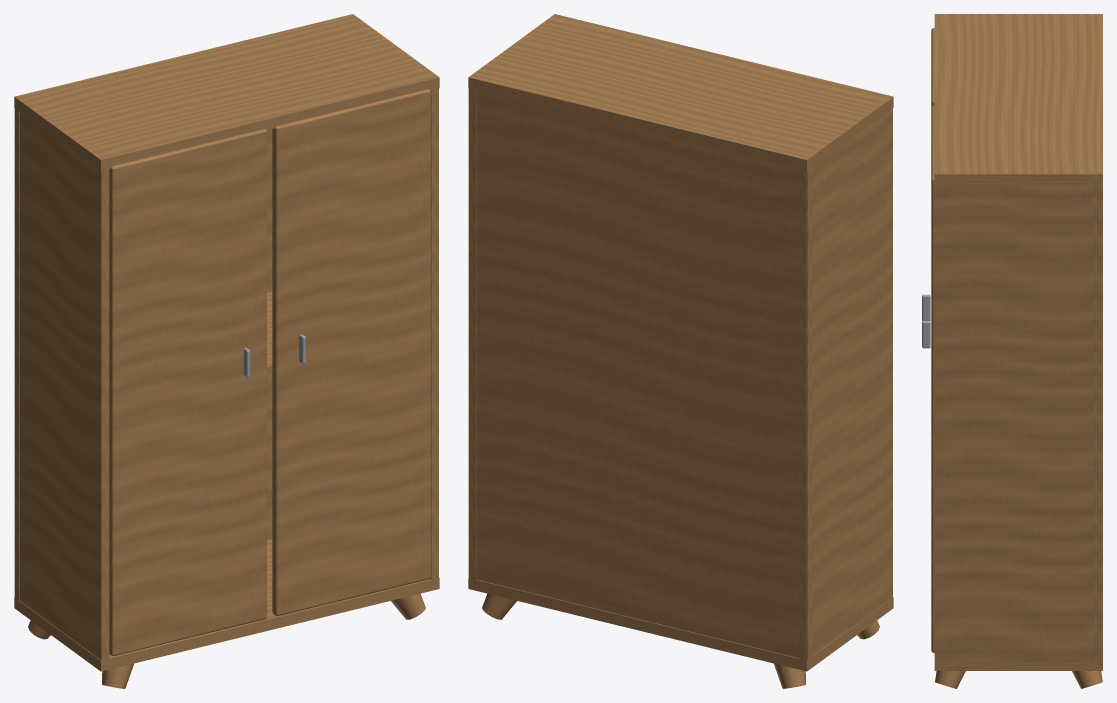
Rendered from wardrobe_fjord-4127150bf0e5.glb.
3 renders of one model, left to right at view 1: azimuth 30°, elevation 25°; view 2: azimuth 150°, elevation 25°; view 3: azimuth 270°, elevation 25°, orthographic. The views are drawn at different scales.
Parts seen in each view (by area): view 1: surface_oak; view 2: surface_oak; view 3: surface_oak, surface_steel.
Part boxes in pixels (left/top/right/bottom): surface_oak: left=14, top=14, right=439, bottom=688; surface_oak: left=468, top=14, right=893, bottom=688; surface_oak: left=931, top=14, right=1102, bottom=688; surface_steel: left=922, top=294, right=930, bottom=348.
Bounding box in the file's own units: 1.26 × 1.93 × 0.6026.
2 materials, 1 textured.
